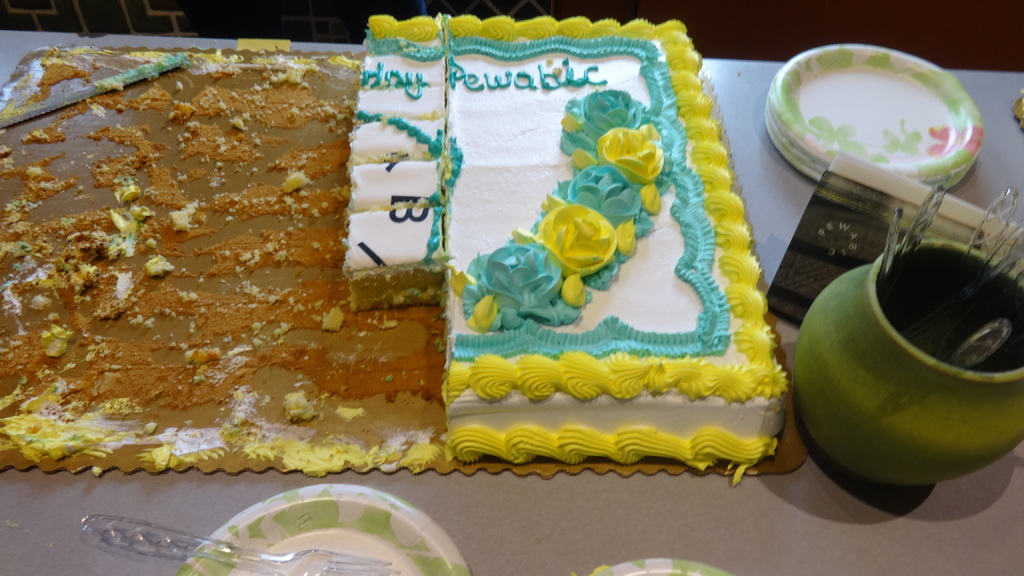cake: (342, 12, 790, 487)
